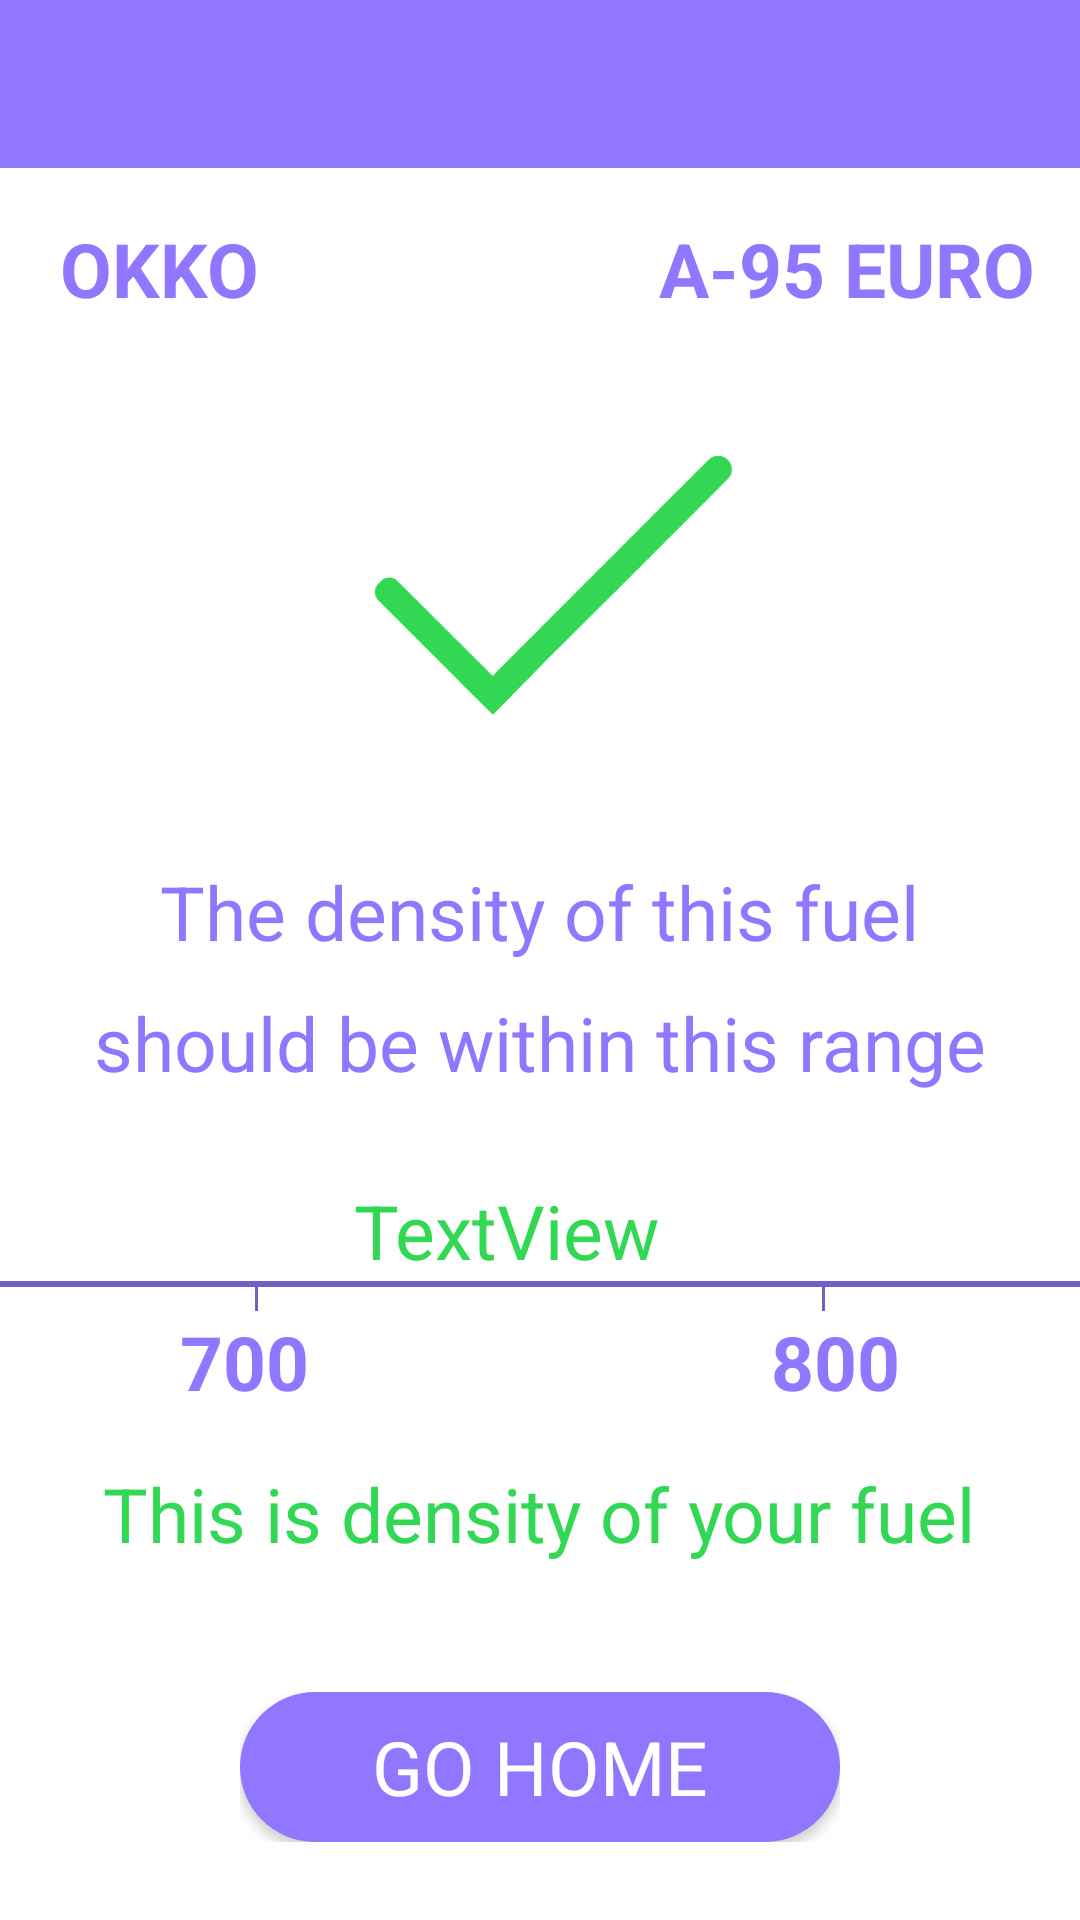

Icon click points for this 1080px x 1920px phone screenshot, format (x,y):
good fuel plus: (553,585)
